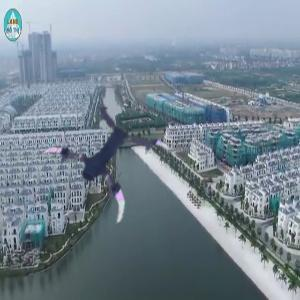drone: (40, 105, 161, 226)
